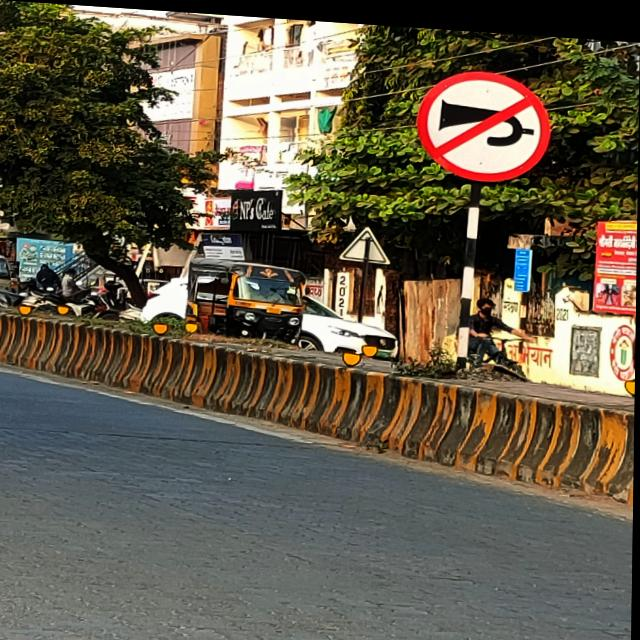HORN_PROHIBITED: (417, 59, 552, 183)
